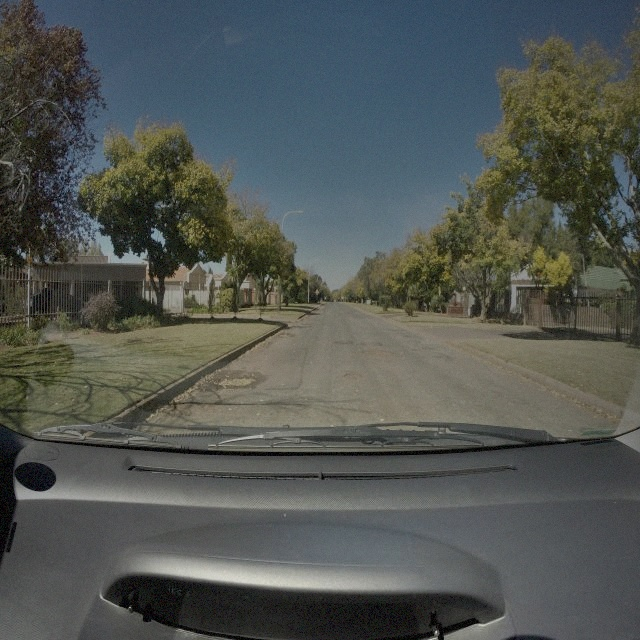pothole: (216, 374, 255, 389), (362, 347, 392, 360), (344, 370, 362, 383)
